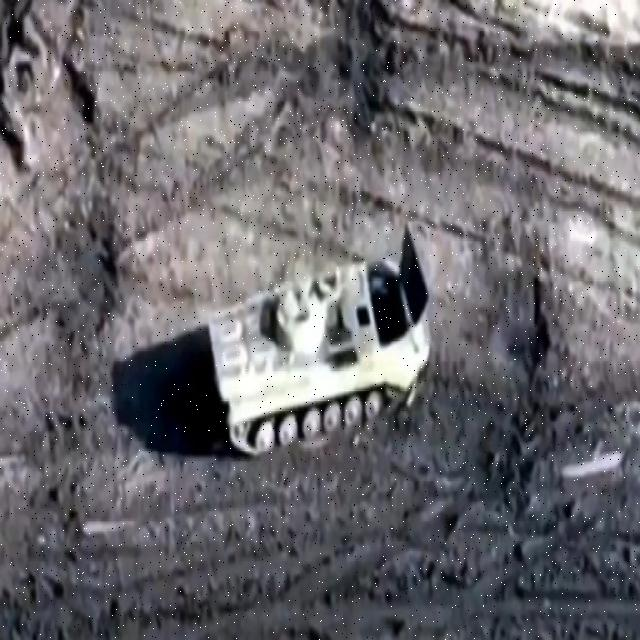APC-IFV: (191, 218, 439, 456)
